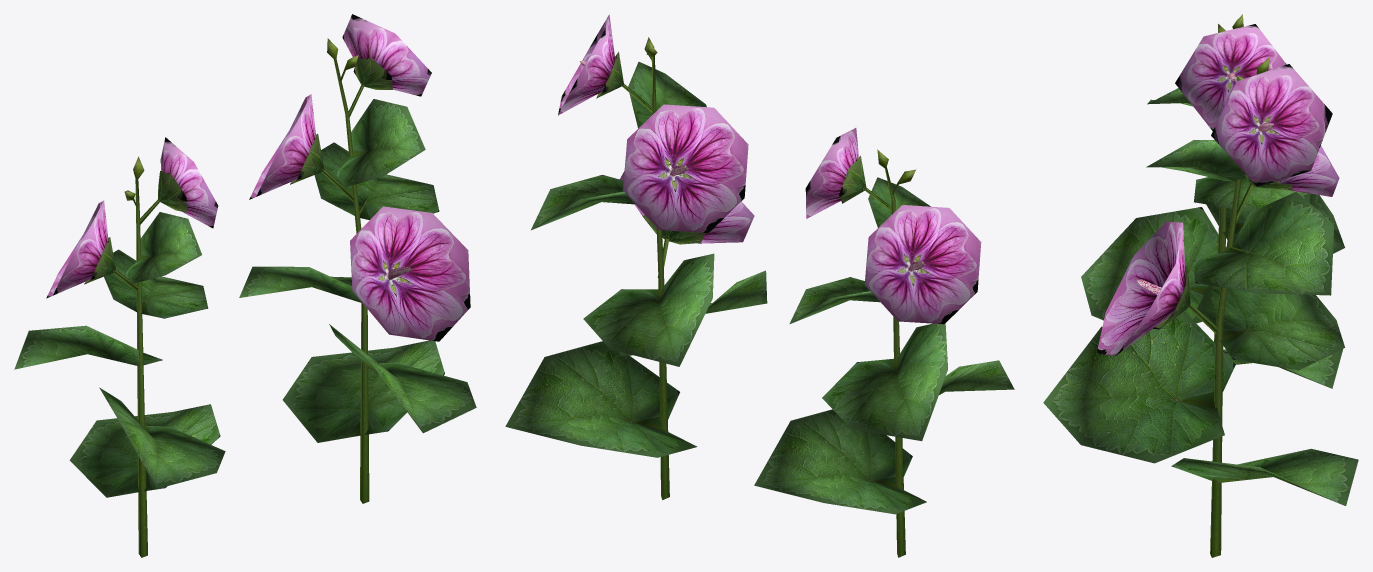
File: Mallow_m.FBX
The picture shows the model from 3 angles, left to right: view 1: azimuth 30°, elevation 25°; view 2: azimuth 150°, elevation 25°; view 3: azimuth 270°, elevation 25°; orthographic projection. The views are drawn at different scales.
Parts seen in each view (by area): view 1: Mallow001, Mallow002; view 2: Mallow001, Mallow002; view 3: Mallow001, Mallow002.
Part boxes in pixels (bbox=[...]): Mallow001: bbox=[239, 14, 476, 503]; Mallow002: bbox=[14, 137, 225, 557]; Mallow001: bbox=[505, 14, 767, 500]; Mallow002: bbox=[754, 128, 1014, 557]; Mallow001: bbox=[1043, 57, 1358, 557]; Mallow002: bbox=[1081, 14, 1344, 388].
Size of the model in its own units: 97.48 by 108 by 61.39.
